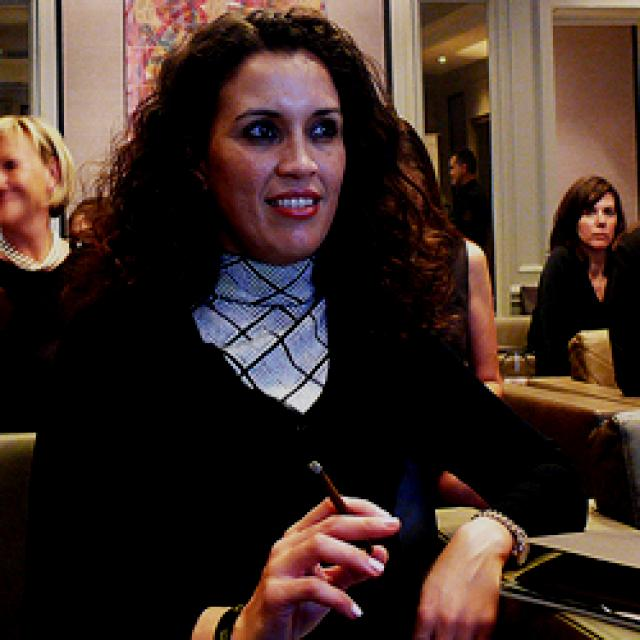Smooking: (299, 448, 356, 522)
